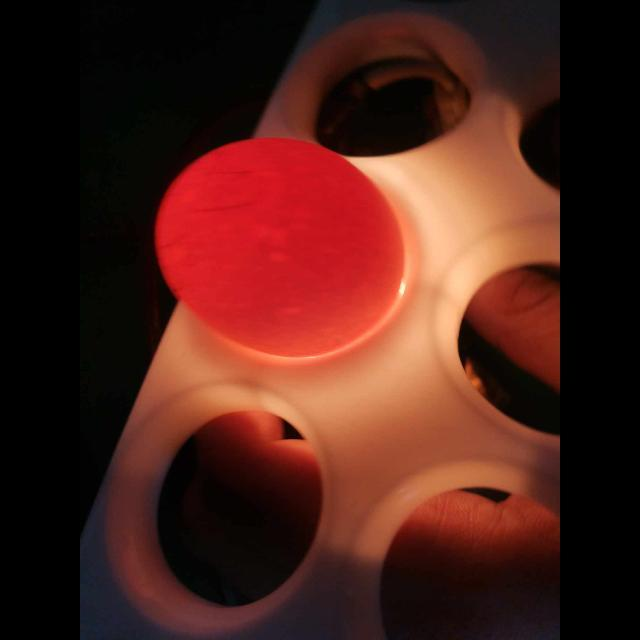Infertile: (151, 135, 401, 359)
